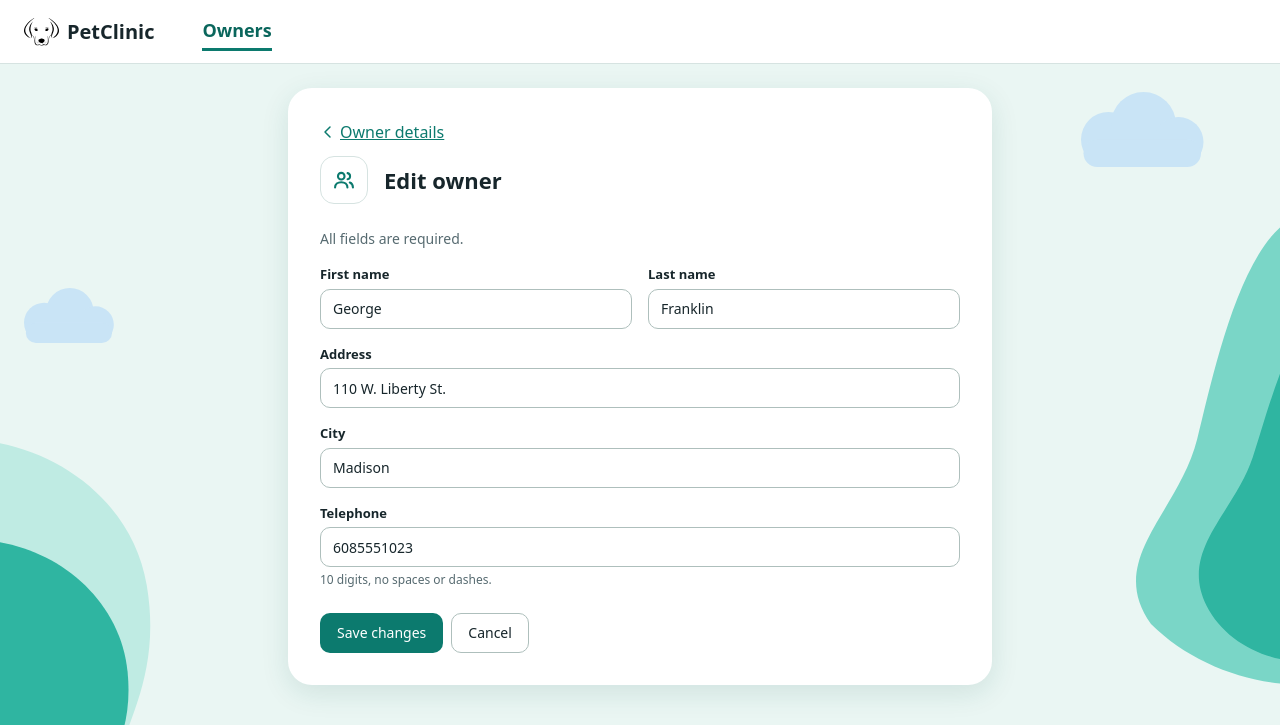
EditOwnerPage › shows the server's field message under the field and keeps the entered values
Click the button "Save changes" at [382, 633], box [320,613,443,653]
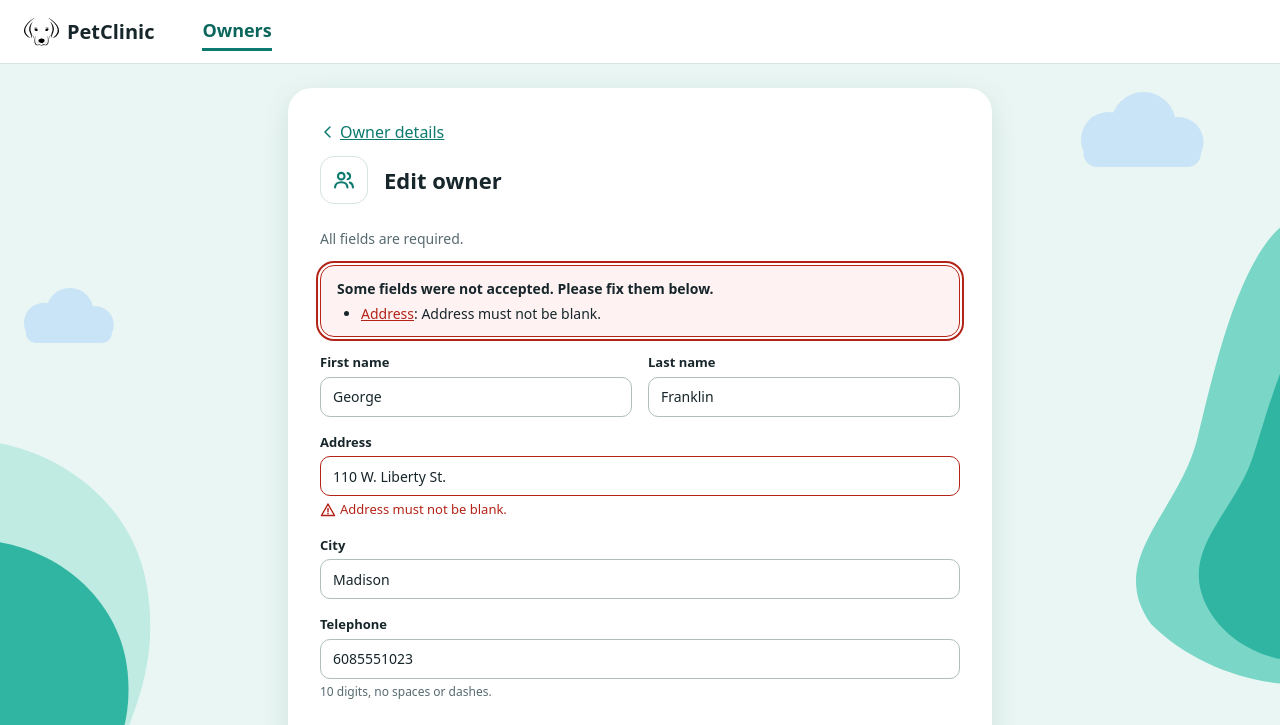
Expected: the field labelled "Last name" holds "Franklin", [648,376,960,416]
Expected: the text "Some fields were not accepted. Please fix them below." is shown, [337,279,714,298]
